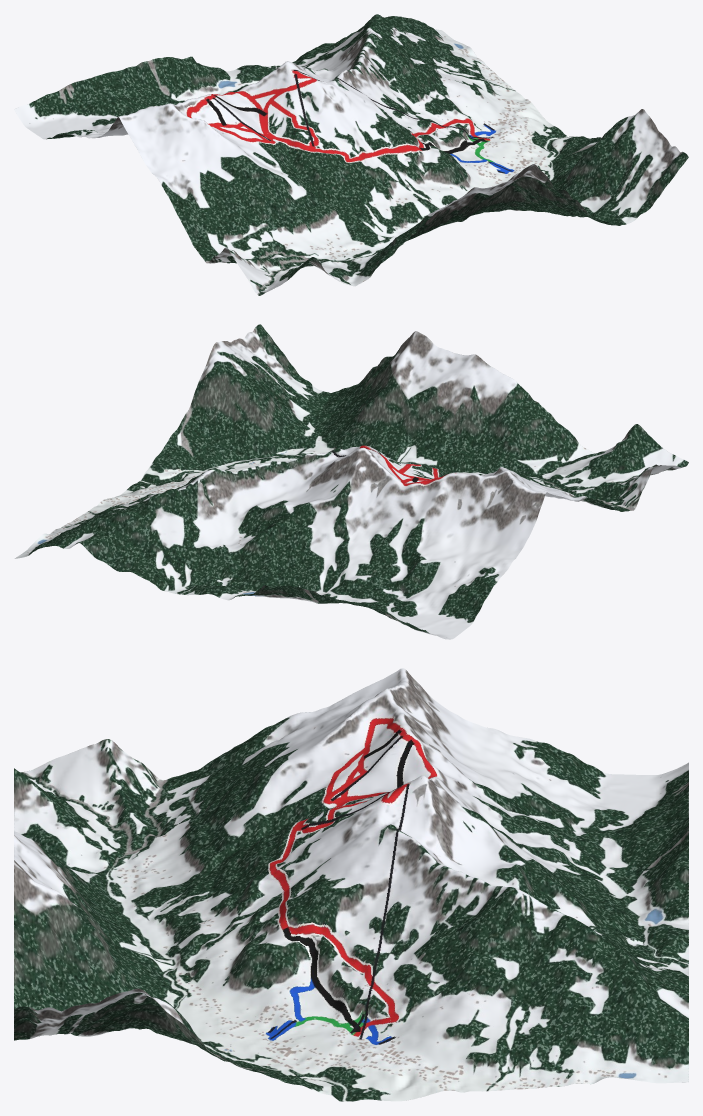
3 renders of one model, top to bottom at view 1: azimuth 30°, elevation 25°; view 2: azimuth 150°, elevation 25°; view 3: azimuth 270°, elevation 25°, orthographic. The views are drawn at different scales.
Visible parts, largest first — view 1: B1_Walmendingerhorn.glb; view 2: B1_Walmendingerhorn.glb; view 3: B1_Walmendingerhorn.glb.
Part boxes in pixels (x1,y1,x2,y2): B1_Walmendingerhorn.glb: [14, 14, 688, 295]; B1_Walmendingerhorn.glb: [14, 324, 688, 639]; B1_Walmendingerhorn.glb: [14, 668, 688, 1101].
Size of the model in its own units: 4205 by 1085 by 4205.
1 material, 1 textured.
